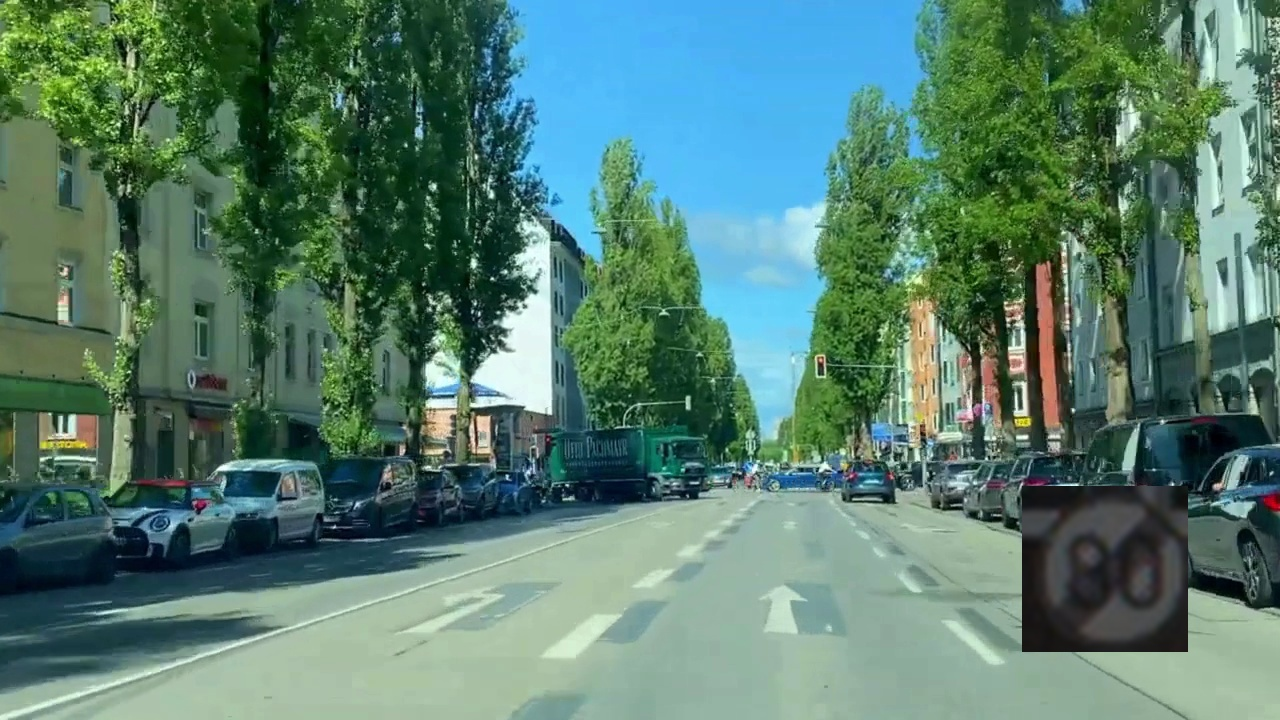End Speed 80: (1022, 486, 1188, 652)
